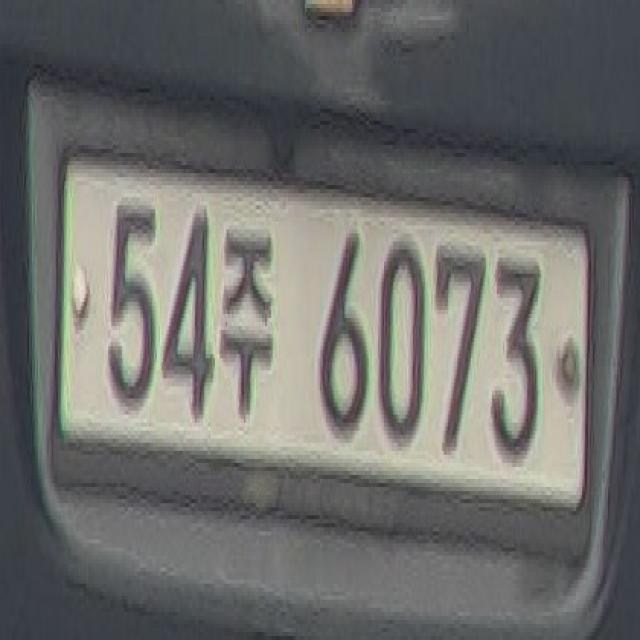0: (375, 217, 431, 471)
3: (491, 249, 544, 467)
4: (160, 177, 215, 447)
5: (104, 165, 160, 411)
6: (318, 201, 375, 455)
7: (424, 237, 483, 471)
ju: (212, 205, 282, 415)
license_plate: (33, 120, 596, 568)
